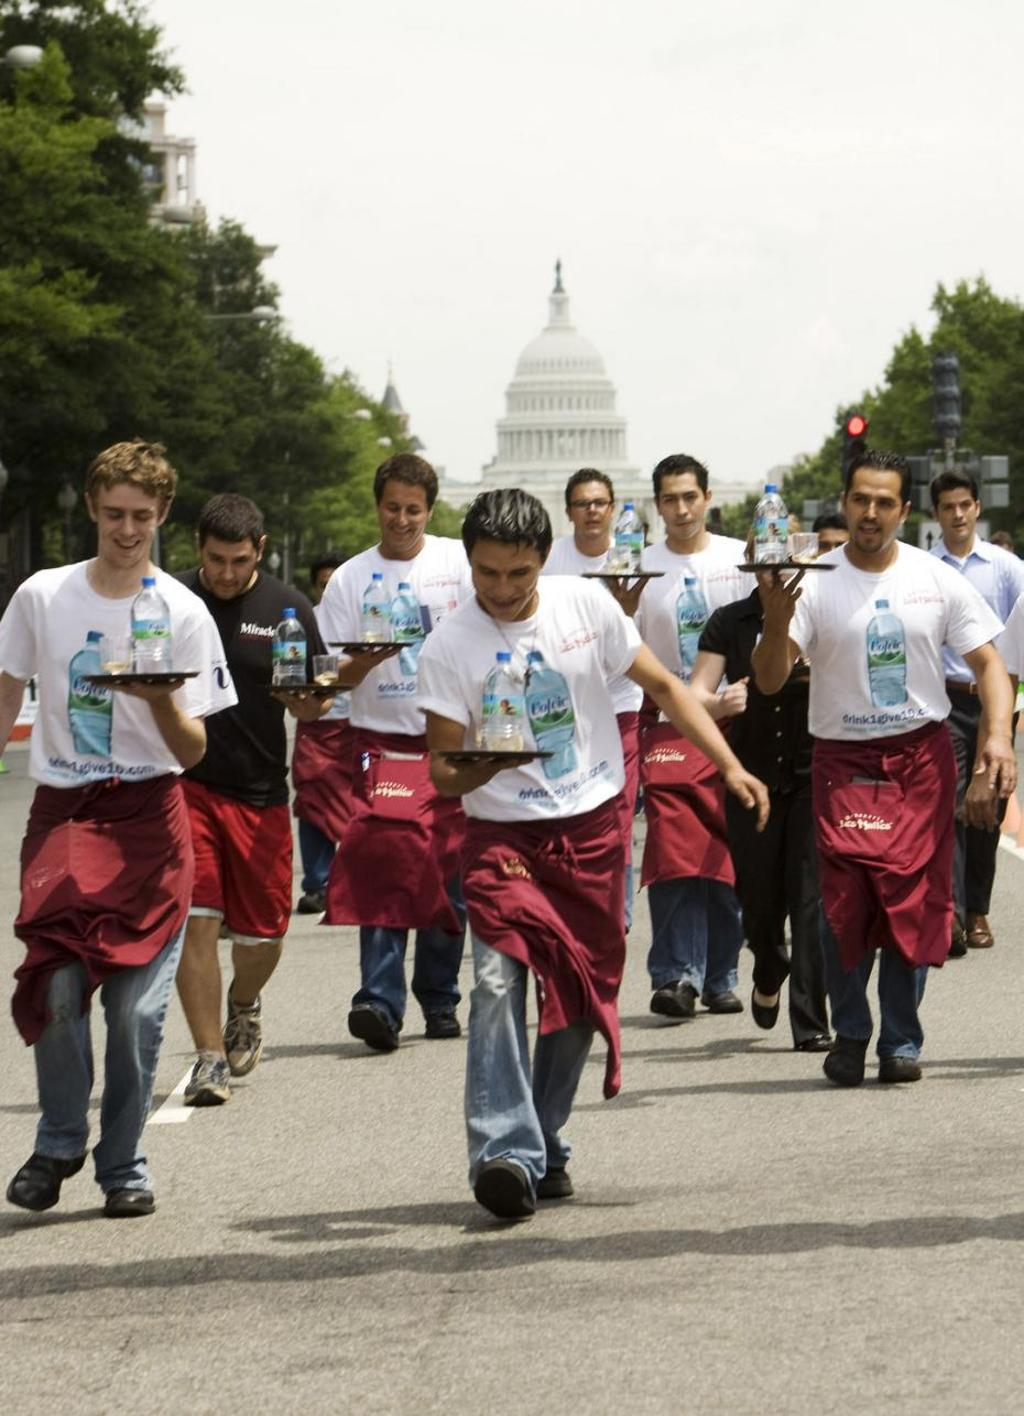face: (471, 552, 536, 622), (94, 499, 157, 565), (847, 480, 899, 556), (199, 545, 252, 600), (654, 484, 704, 539), (379, 495, 424, 553), (569, 494, 609, 536), (939, 499, 974, 541), (818, 533, 848, 568), (312, 575, 344, 606), (989, 536, 1009, 563)
